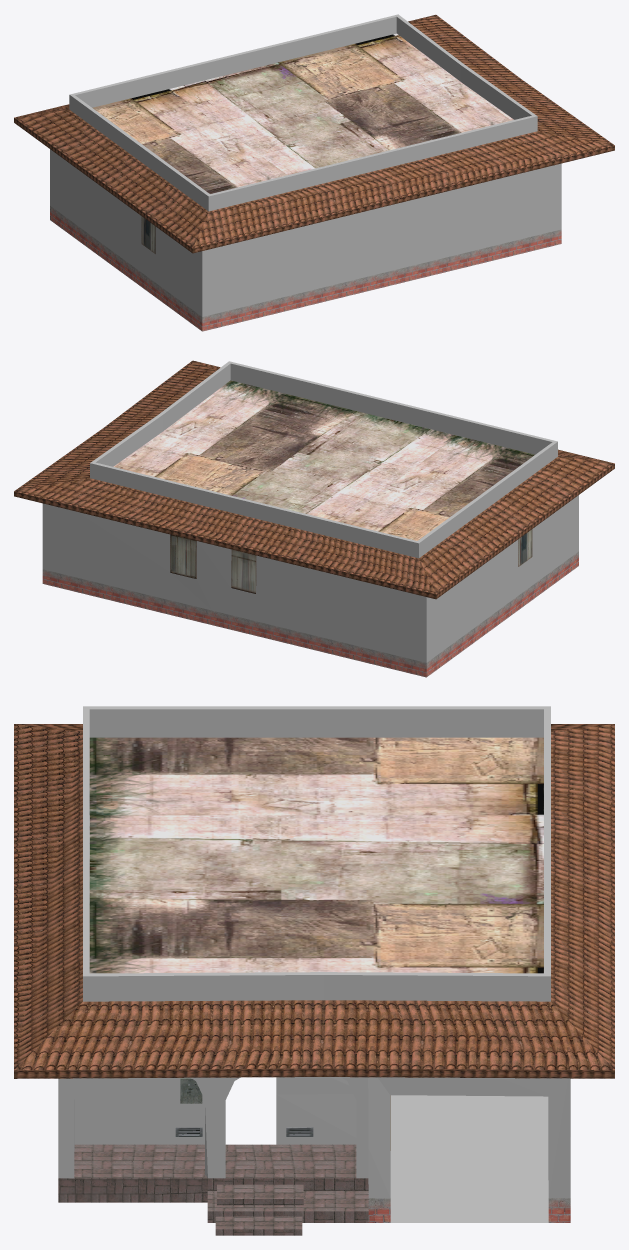
The model's file is sweetshou1_lae2.obj.
The picture shows the model from 3 angles, top to bottom: view 1: azimuth 30°, elevation 25°; view 2: azimuth 150°, elevation 25°; view 3: azimuth 270°, elevation 25°; orthographic projection. The views are drawn at different scales.
Visible parts, largest first — view 1: sweetshou1_LAe2; view 2: sweetshou1_LAe2; view 3: sweetshou1_LAe2.
Boxes of the visible parts, x1,y1,x2,y2 form: sweetshou1_LAe2: (14, 14, 614, 331); sweetshou1_LAe2: (14, 360, 614, 677); sweetshou1_LAe2: (14, 706, 614, 1235).
Bounding box in the file's own units: 20.27 × 5.8 × 14.86.
